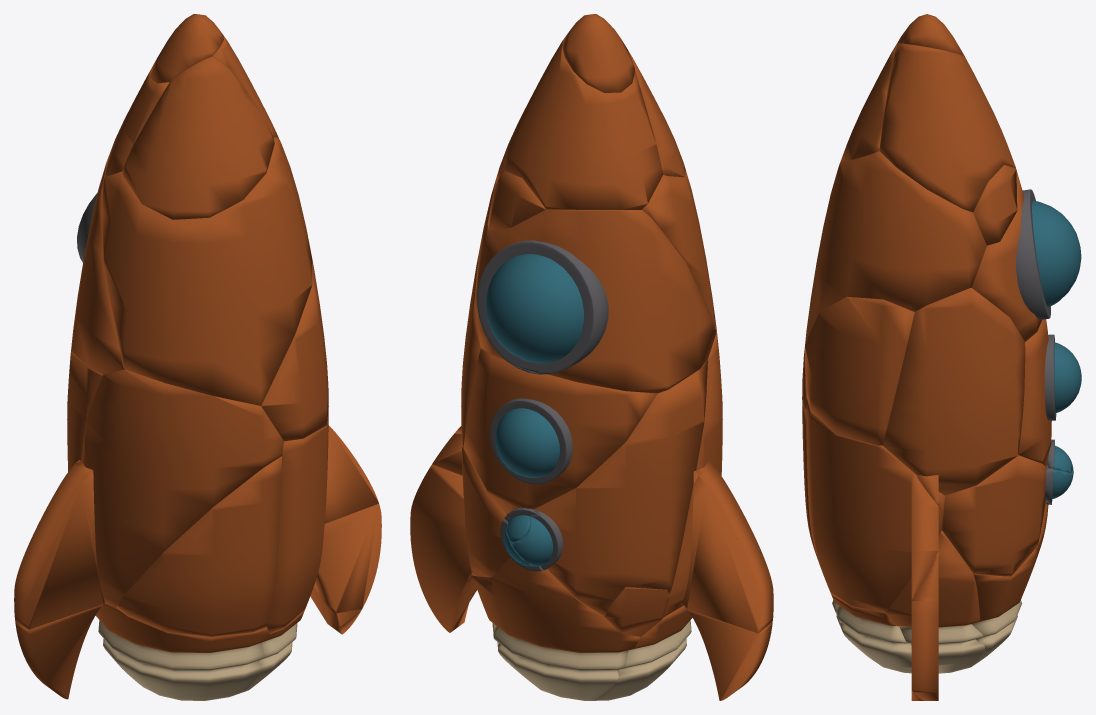
Rendered from Ship Dark Orange Fractured.fbx.
3 views of the same model, side by side, from view 1: azimuth 30°, elevation 25°; view 2: azimuth 150°, elevation 25°; view 3: azimuth 270°, elevation 25° (orthographic). The views are drawn at different scales.
Parts seen in each view (by area): view 1: Glass Window_shard, Glass Window_shard.006, Glass Window_shard.015, Glass Window_shard.010, Glass Window_shard.013, Glass Window_shard.005, Glass Window_shard.018, Glass Window_shard.011, Glass Window_shard.009, Glass Window_shard.001, Glass Window_shard.008, Glass Window_shard.014 (+1 smaller); view 2: Glass Window_shard.009, Glass Window_shard.014, Glass Window_shard.016, Glass Window_shard.001, Glass Window_shard.004, Glass Window_shard.006, Glass Window_shard.011, Glass Window_shard.013, Glass Window_shard, Glass Window_shard.008, Glass Window_shard.002, Glass Window_shard.017 (+4 smaller); view 3: Glass Window_shard.007, Glass Window_shard, Glass Window_shard.005, Glass Window_shard.001, Glass Window_shard.018, Glass Window_shard.002, Glass Window_shard.009, Glass Window_shard.011, Glass Window_shard.016, Glass Window_shard.004, Glass Window_shard.003, Glass Window_shard.012 (+3 smaller).
Part boxes in pixels (x1,y1,x2,y2): Glass Window_shard: [102, 137, 312, 405]; Glass Window_shard.006: [14, 369, 283, 629]; Glass Window_shard.015: [116, 456, 281, 636]; Glass Window_shard.010: [122, 56, 274, 219]; Glass Window_shard.013: [15, 603, 269, 700]; Glass Window_shard.005: [267, 406, 378, 633]; Glass Window_shard.018: [261, 262, 328, 441]; Glass Window_shard.011: [310, 503, 381, 628]; Glass Window_shard.009: [71, 162, 125, 374]; Glass Window_shard.001: [104, 36, 278, 176]; Glass Window_shard.008: [149, 14, 223, 83]; Glass Window_shard.014: [67, 350, 102, 471]; Glass Window_shard.009: [474, 209, 715, 393]; Glass Window_shard.014: [506, 359, 707, 616]; Glass Window_shard.016: [463, 348, 657, 541]; Glass Window_shard.001: [496, 39, 662, 209]; Glass Window_shard.004: [473, 557, 640, 700]; Glass Window_shard.006: [663, 317, 773, 633]; Glass Window_shard.011: [410, 464, 498, 646]; Glass Window_shard.013: [592, 605, 772, 700]; Glass Window_shard: [479, 170, 715, 330]; Glass Window_shard.008: [562, 14, 634, 92]; Glass Window_shard.002: [462, 447, 524, 577]; Glass Window_shard.017: [604, 587, 668, 636]; Glass Window_shard.007: [882, 288, 1025, 505]; Glass Window_shard: [805, 151, 986, 344]; Glass Window_shard.005: [806, 398, 944, 612]; Glass Window_shard.001: [879, 43, 1015, 212]; Glass Window_shard.018: [804, 296, 914, 445]; Glass Window_shard.002: [942, 455, 1072, 576]; Glass Window_shard.009: [971, 171, 1081, 341]; Glass Window_shard.011: [886, 530, 984, 700]; Glass Window_shard.016: [1018, 313, 1081, 473]; Glass Window_shard.004: [969, 497, 1057, 667]; Glass Window_shard.003: [831, 595, 923, 700]; Glass Window_shard.012: [973, 165, 1017, 245].
Size of the model in its own units: 250 by 451 by 179.
